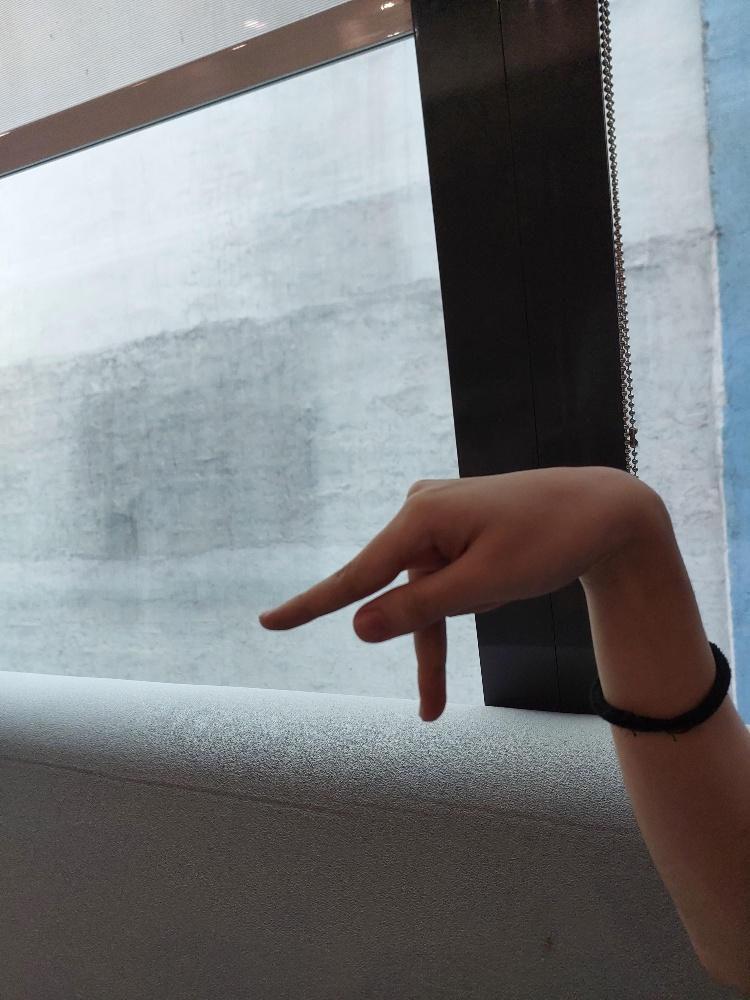p: (260, 466, 595, 720)
